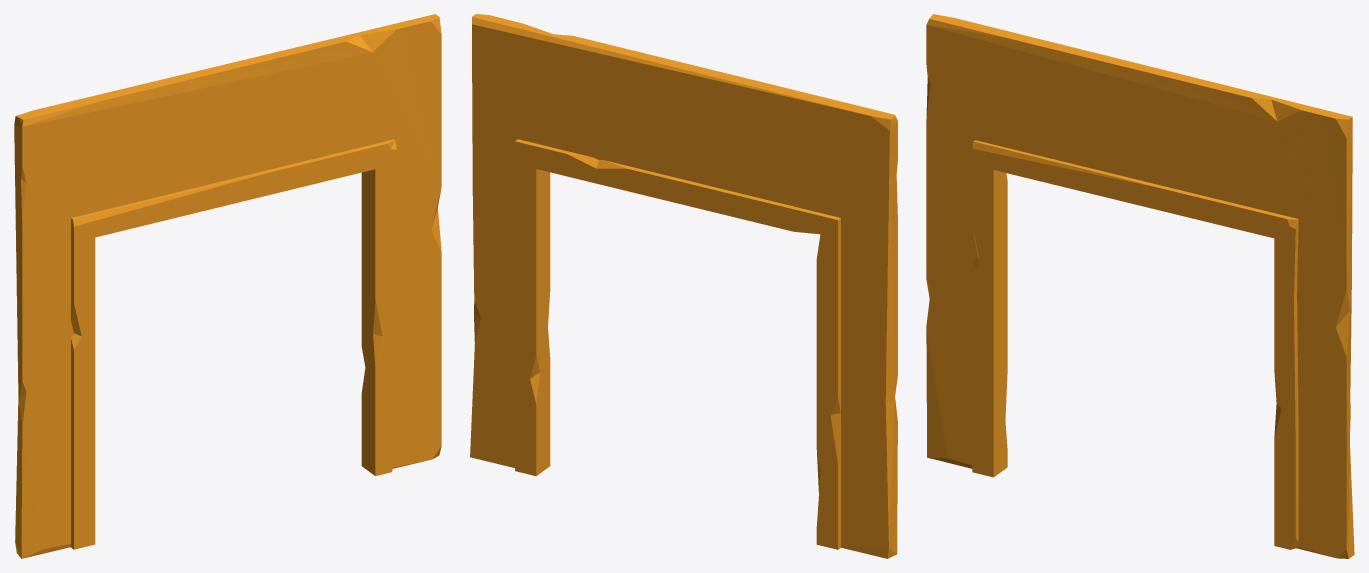
File: SM_Buildings_WallDoorDouble_3x3_01P.fbx
3 views of the same model, side by side, from view 1: azimuth 30°, elevation 25°; view 2: azimuth 150°, elevation 25°; view 3: azimuth 330°, elevation 25° (orthographic).
Parts seen in each view (by area): view 1: SM_Buildings_WallDoorDouble_3x3_01P; view 2: SM_Buildings_WallDoorDouble_3x3_01P; view 3: SM_Buildings_WallDoorDouble_3x3_01P.
Boxes of the visible parts, bbox=[...] form: SM_Buildings_WallDoorDouble_3x3_01P: bbox=[14, 14, 441, 558]; SM_Buildings_WallDoorDouble_3x3_01P: bbox=[470, 14, 897, 558]; SM_Buildings_WallDoorDouble_3x3_01P: bbox=[926, 14, 1354, 558].
Size of the model in its own units: 300 by 300 by 17.29.
